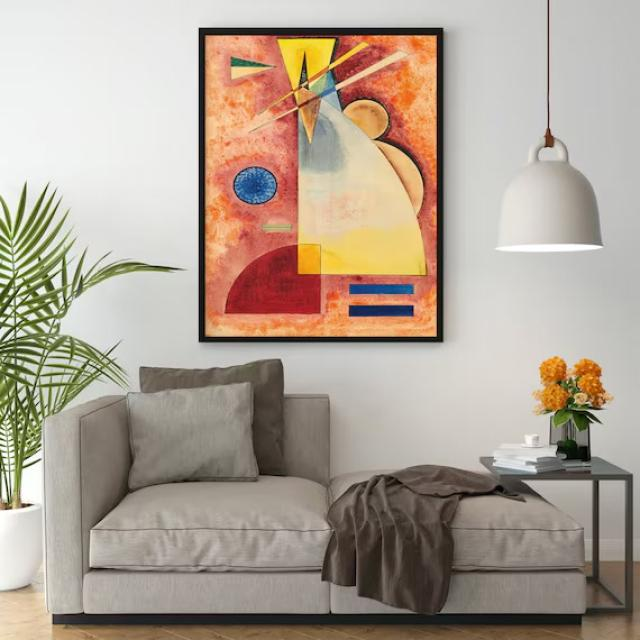painting: (197, 26, 445, 341)
